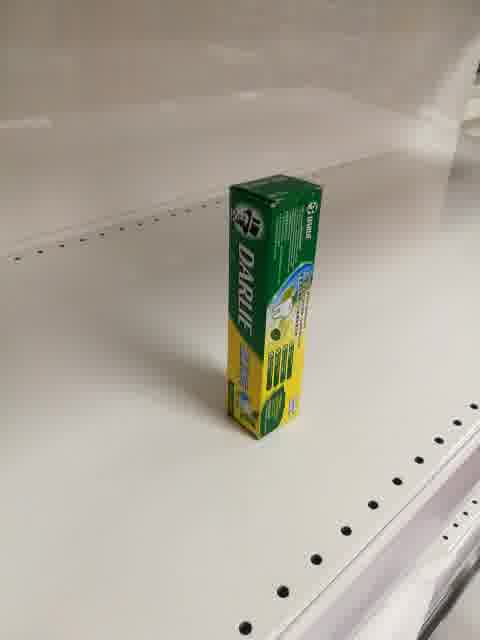toothpaste: (225, 174, 323, 442)
